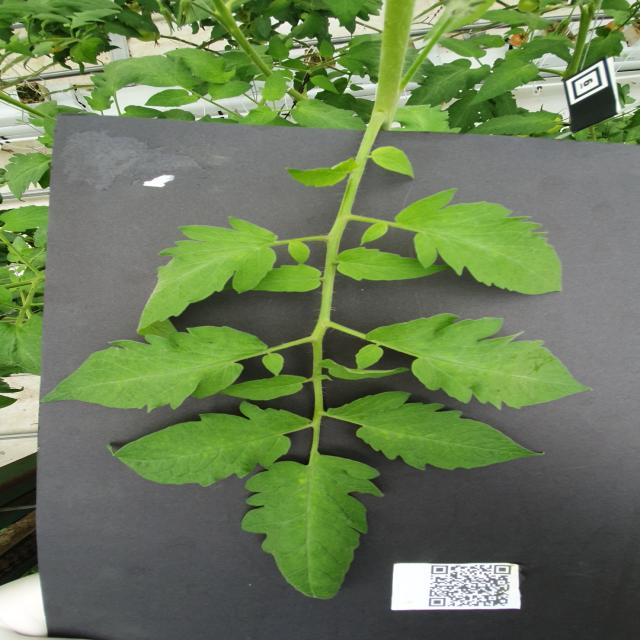Healthy Leaf: (355, 314, 596, 412), (243, 455, 386, 601), (40, 325, 266, 414), (395, 189, 566, 297), (136, 215, 281, 339), (328, 391, 547, 473), (111, 402, 315, 488), (406, 59, 492, 109), (340, 246, 449, 282), (467, 60, 541, 106), (164, 48, 237, 84), (290, 99, 368, 131), (217, 375, 308, 402), (248, 263, 324, 295), (4, 153, 52, 203), (468, 112, 559, 136), (1, 205, 50, 233), (438, 38, 488, 60), (207, 81, 256, 102), (146, 90, 200, 109), (260, 69, 289, 103), (240, 106, 281, 126), (84, 87, 115, 112), (120, 106, 167, 120), (311, 76, 343, 96), (269, 34, 291, 62), (319, 38, 336, 60)
